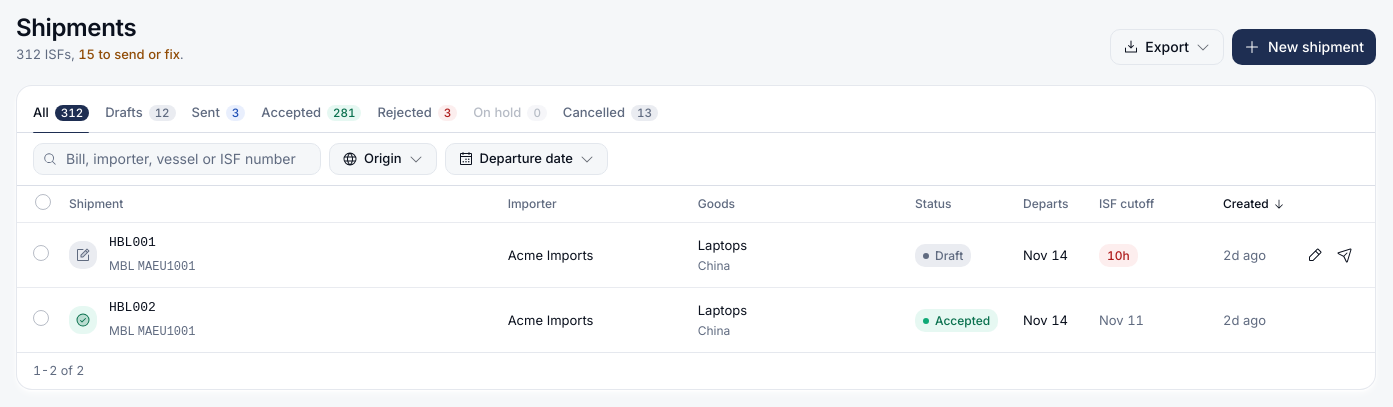
ShipmentsHome › offers drafts to send or delete once they are selected
This screenshot has width=1393, height=407.
Click the checkbox named "Select every shipment on this page": x=43, y=202 [35,194,51,210]
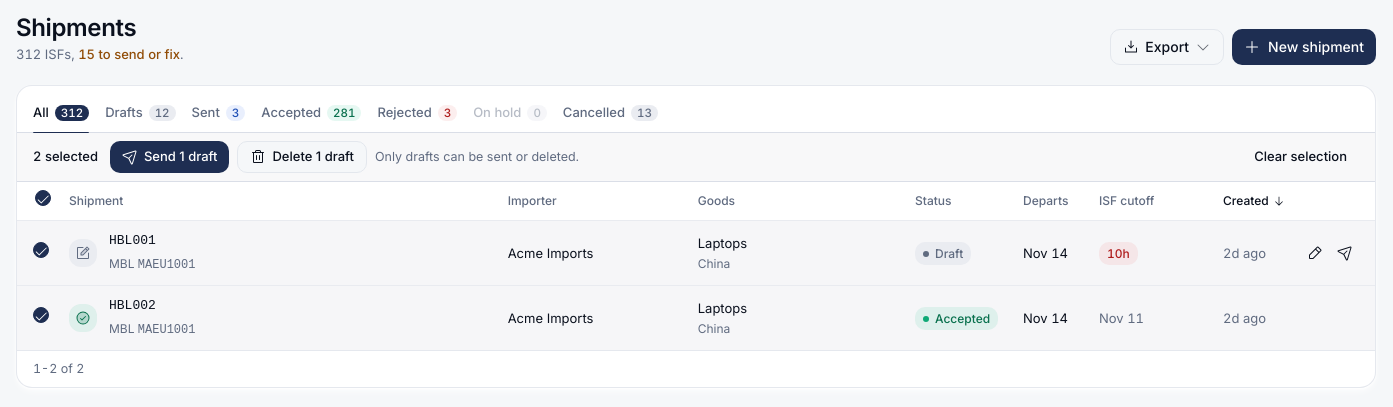
Expected: the text "2 selected" is shown, [33,146,98,167]
Expected: the button "Send 1 draft" is shown, [110,141,230,173]
Expected: the text "Only drafts can be sent or deleted." is shown, [375,147,579,167]
